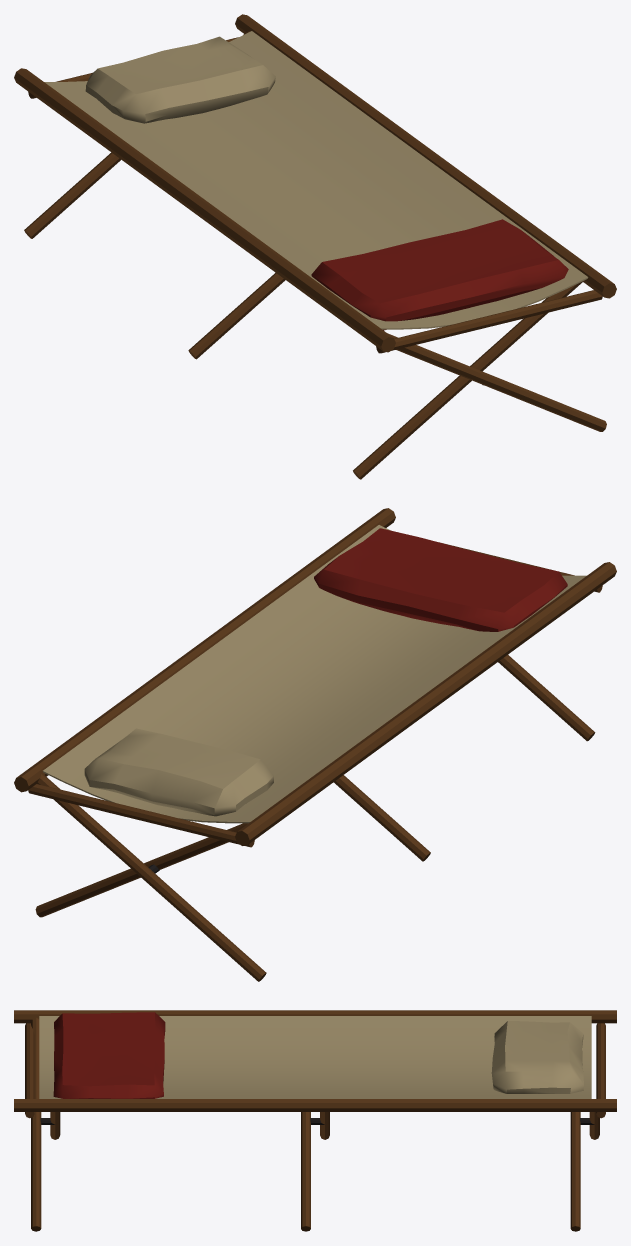
File: feldbett.glb
The picture shows the model from 3 angles, top to bottom: view 1: azimuth 30°, elevation 25°; view 2: azimuth 150°, elevation 25°; view 3: azimuth 270°, elevation 25°; orthographic projection. The views are drawn at different scales.
Visible parts, largest first — view 1: feldbett; view 2: feldbett; view 3: feldbett.
Part boxes in pixels (x1,y1,x2,y2): feldbett: (14, 14, 616, 479); feldbett: (14, 508, 616, 981); feldbett: (14, 1010, 616, 1231).
Size of the model in its own units: 0.7168 by 0.4894 by 1.9.
